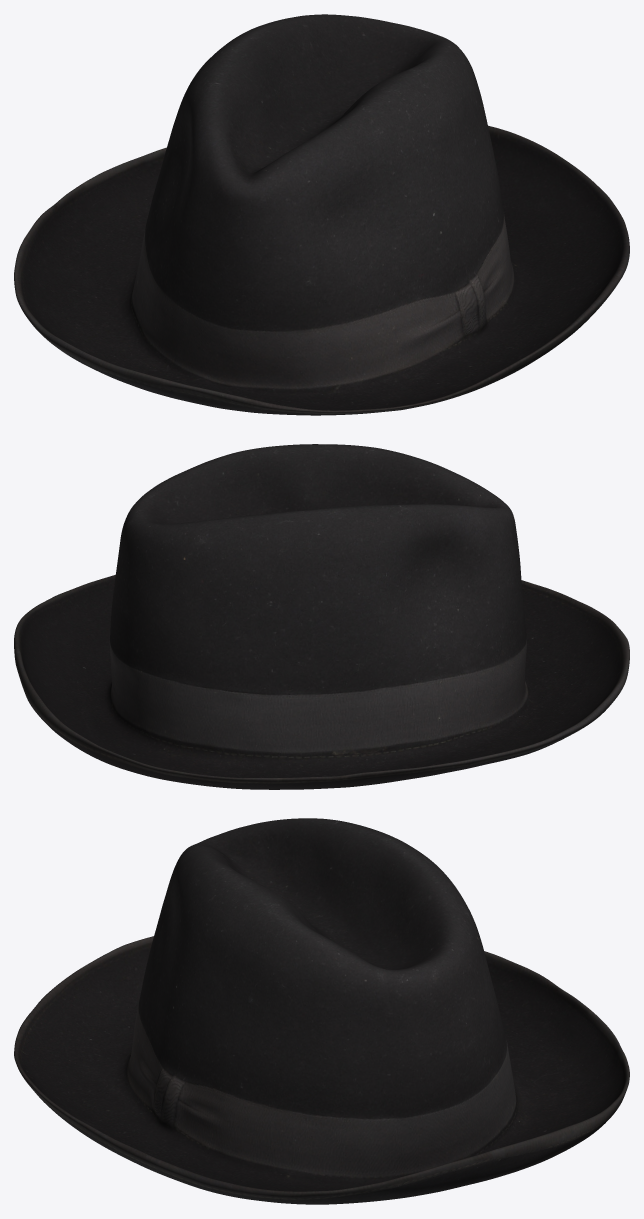
3 views of the same model, one above another, from view 1: azimuth 30°, elevation 25°; view 2: azimuth 150°, elevation 25°; view 3: azimuth 270°, elevation 25° (orthographic). The views are drawn at different scales.
Parts seen in each view (by area): view 1: Kapelusz_Karola_Wojtyly_defaultMat_0; view 2: Kapelusz_Karola_Wojtyly_defaultMat_0; view 3: Kapelusz_Karola_Wojtyly_defaultMat_0.
Boxes of the visible parts, bbox=[...] form: Kapelusz_Karola_Wojtyly_defaultMat_0: bbox=[14, 14, 629, 415]; Kapelusz_Karola_Wojtyly_defaultMat_0: bbox=[14, 444, 629, 789]; Kapelusz_Karola_Wojtyly_defaultMat_0: bbox=[14, 818, 629, 1204].
Bounding box in the file's own units: 33.31 × 13.69 × 32.19.
1 material, 1 textured.
